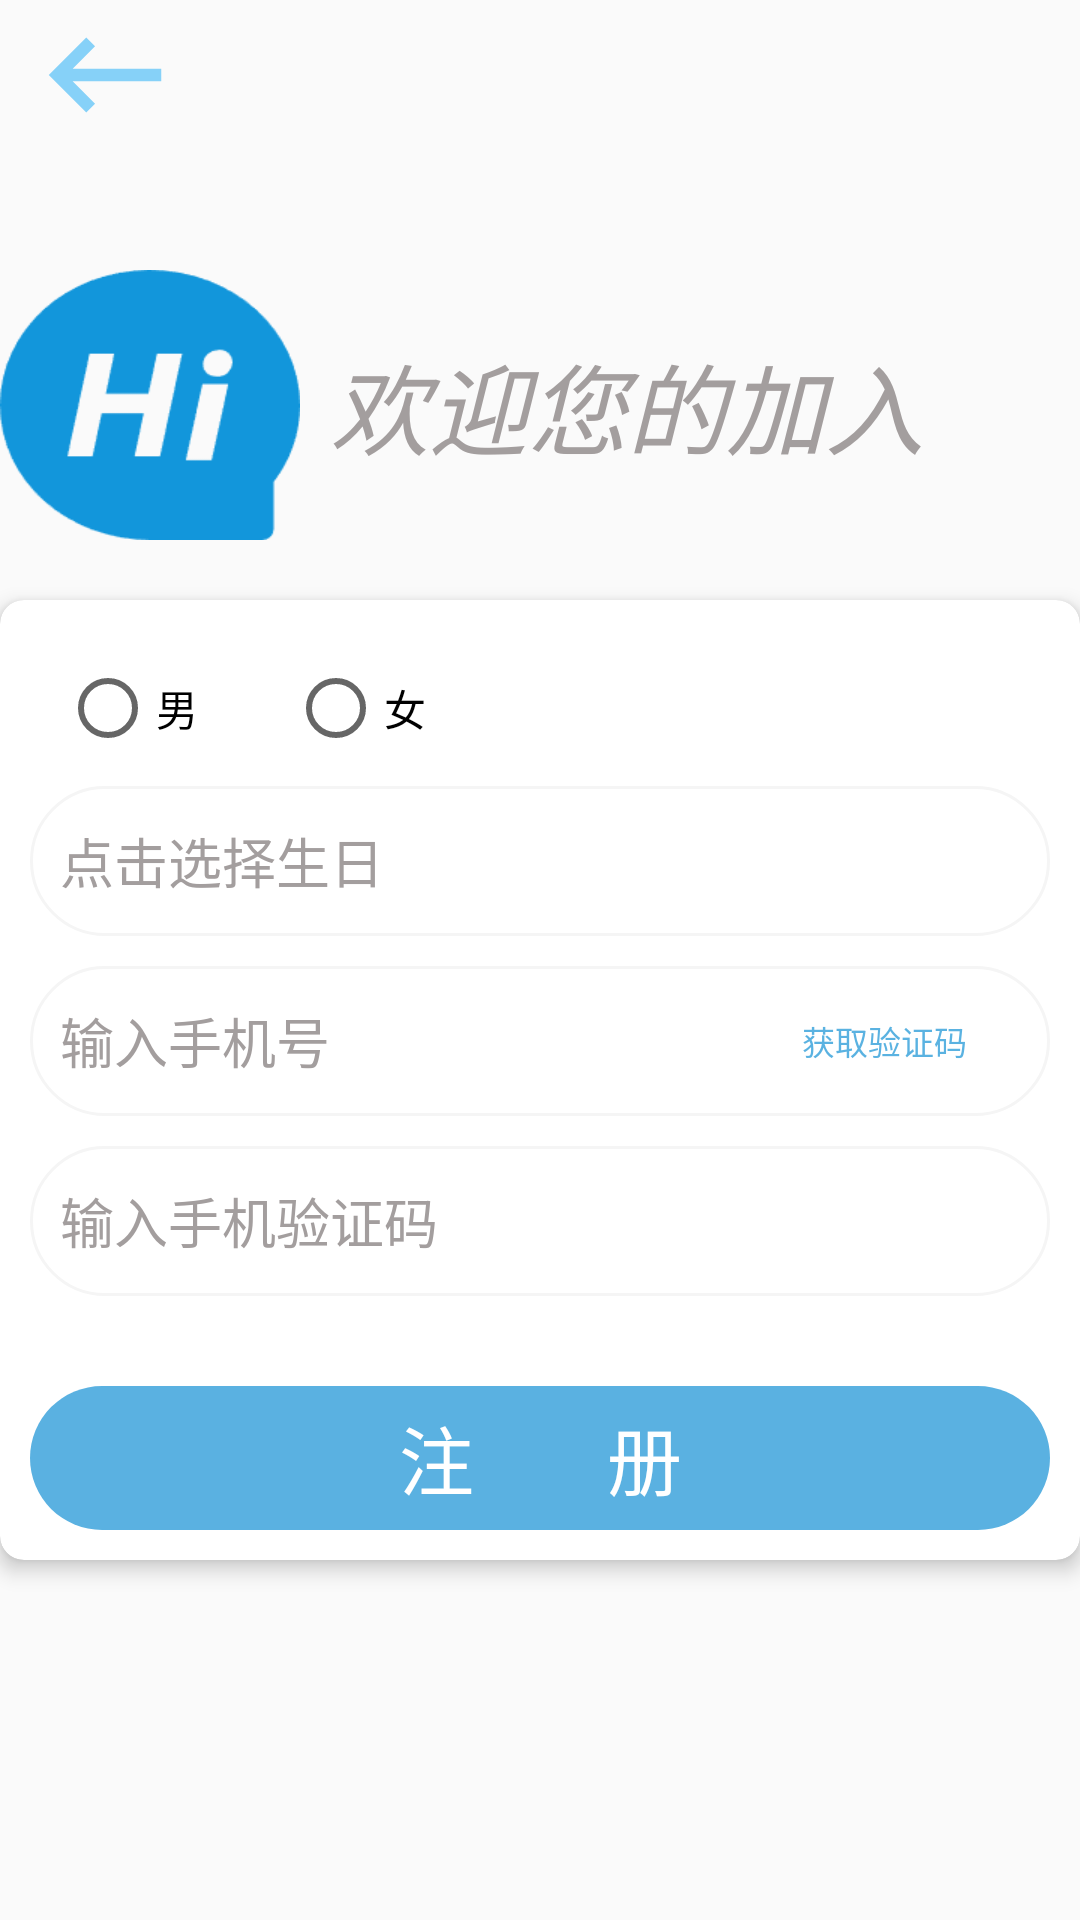

Where icons sit on this 1080*1920 app screen, as (x1, y1, x2, y2):
back: (49, 37, 162, 113)
